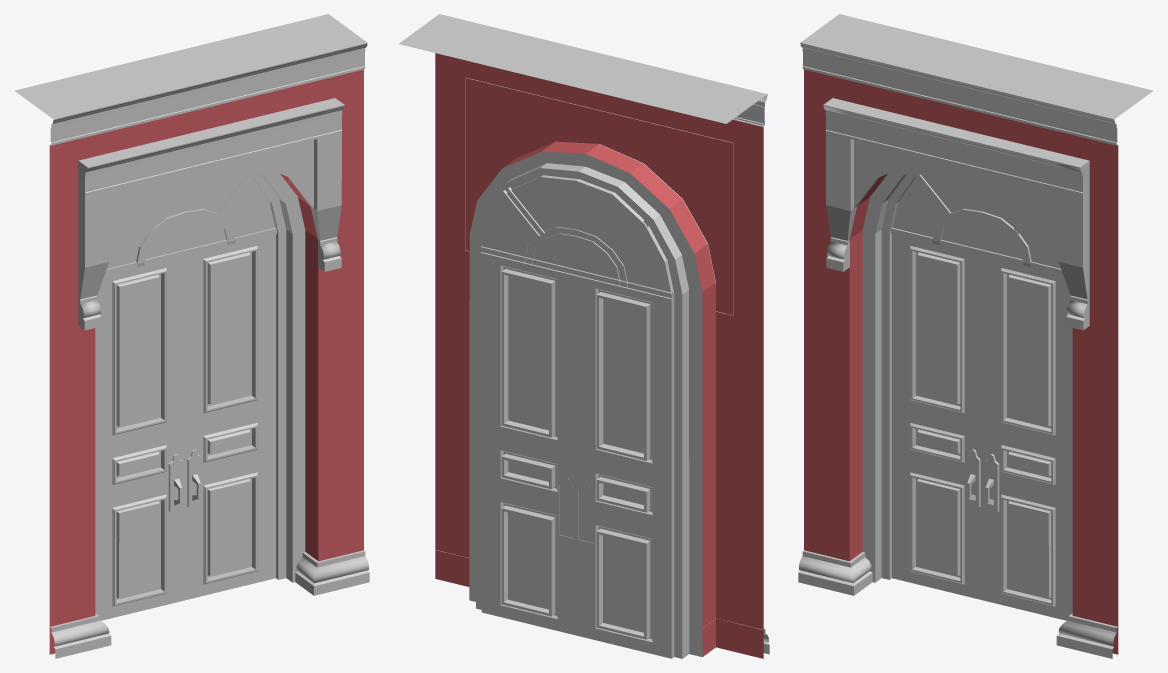
Rendered from station_door2.fbx.
3 renders of one model, left to right at view 1: azimuth 30°, elevation 25°; view 2: azimuth 150°, elevation 25°; view 3: azimuth 330°, elevation 25°, orthographic. The views are drawn at different scales.
Visible parts, largest first — view 1: door2; view 2: door2; view 3: door2.
Part boxes in pixels (bbox=[...]): door2: bbox=[14, 14, 369, 658]; door2: bbox=[399, 14, 769, 658]; door2: bbox=[798, 14, 1153, 658].
Size of the model in its own units: 2.2 by 3.6 by 0.544.
